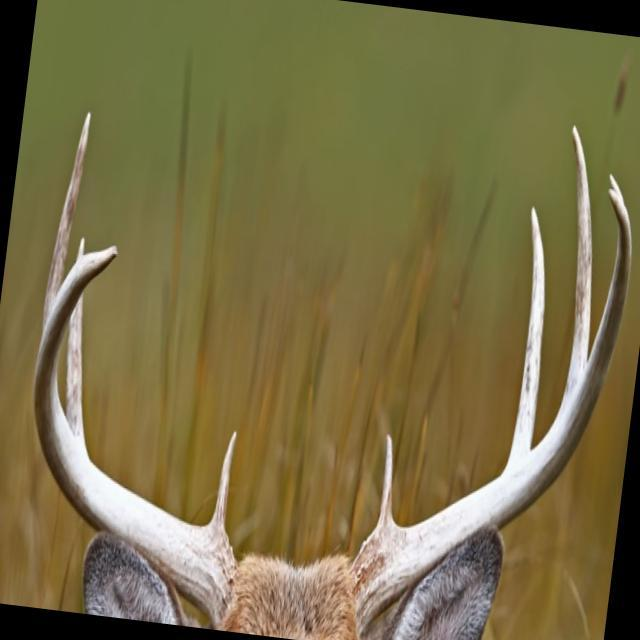L-F: (353, 168, 631, 628)
L-G1: (378, 433, 393, 526)
L-G2: (506, 204, 545, 470)
L-G3: (559, 124, 592, 412)
R-F: (32, 245, 235, 624)
R-G1: (210, 431, 237, 529)
